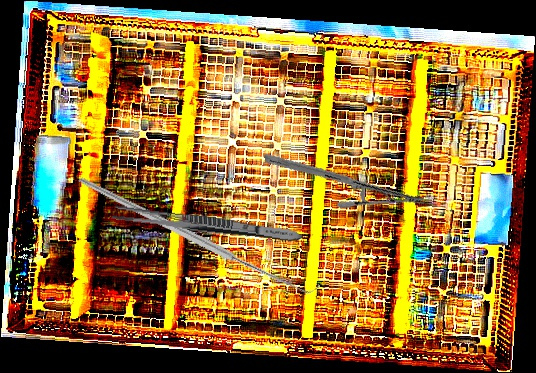Dressing Forceps: (110, 203, 304, 246)
Hook Surgical: (77, 101, 321, 366)
Needle Holder: (263, 119, 426, 240)
